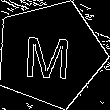M_N: (25, 27, 76, 81)
